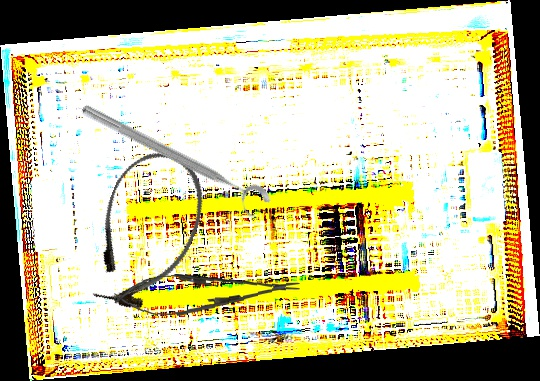Cannula: (73, 139, 220, 323)
Fixation Ring: (72, 98, 275, 224)
Needle Holder: (112, 265, 303, 321)
